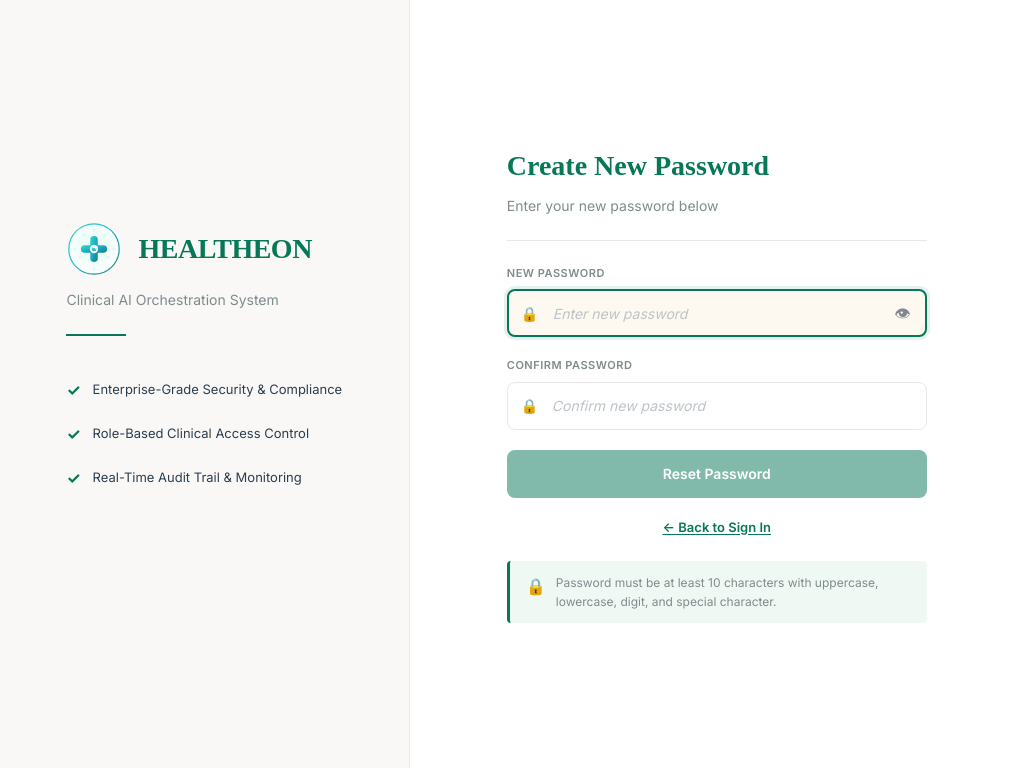
Test: ResetPasswordPage › shows error on API failure
Type "NewSecure123!" into the password field with placeholder "Enter new password" at {"x": 717, "y": 313}, box top-left (507, 289), bottom-right (927, 337)
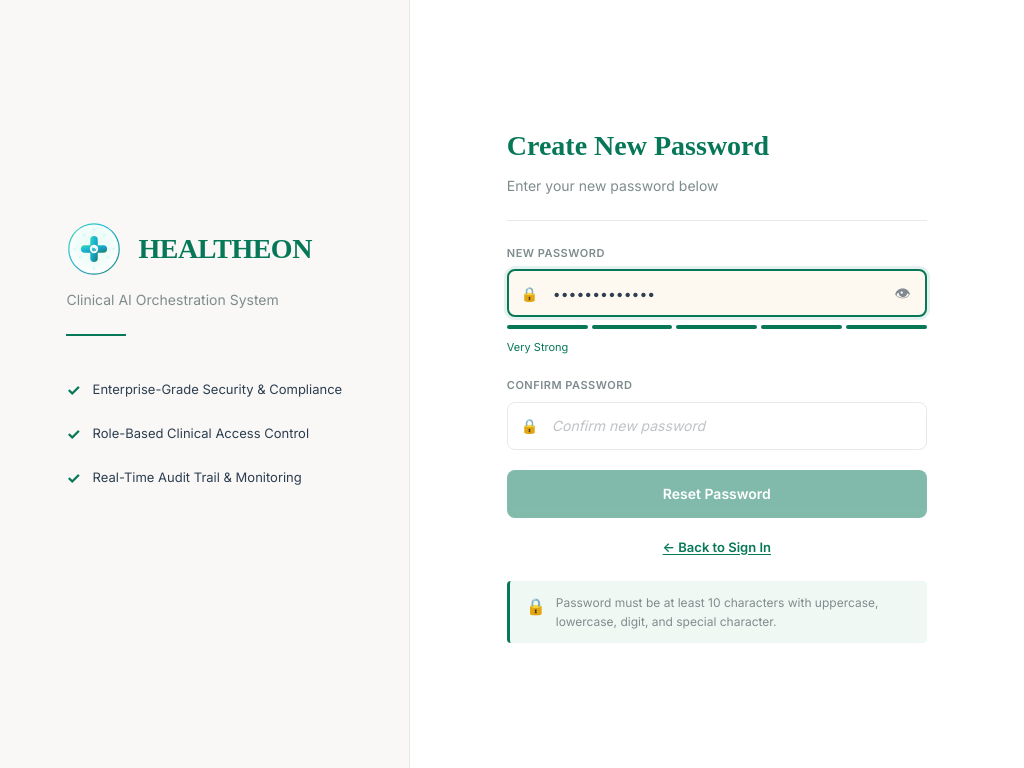
Type "NewSecure123!" into the password field with placeholder "Confirm new password" at {"x": 717, "y": 426}, box top-left (507, 402), bottom-right (927, 450)
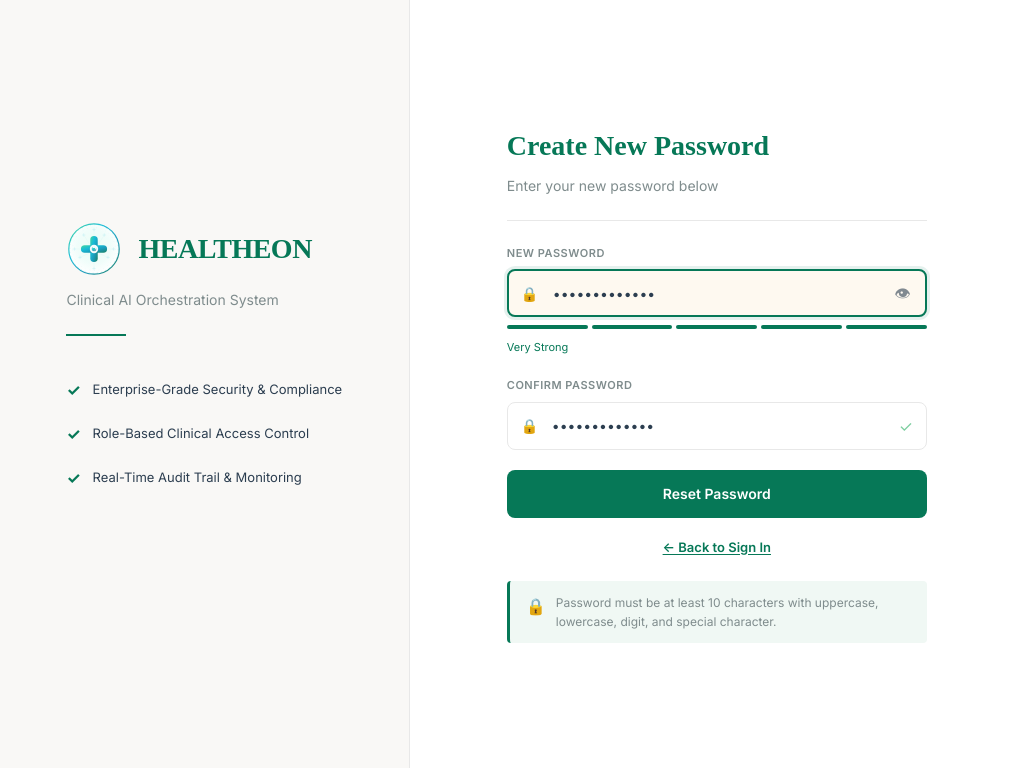
Click the button "Reset Password" at {"x": 717, "y": 494}, box top-left (507, 470), bottom-right (927, 518)
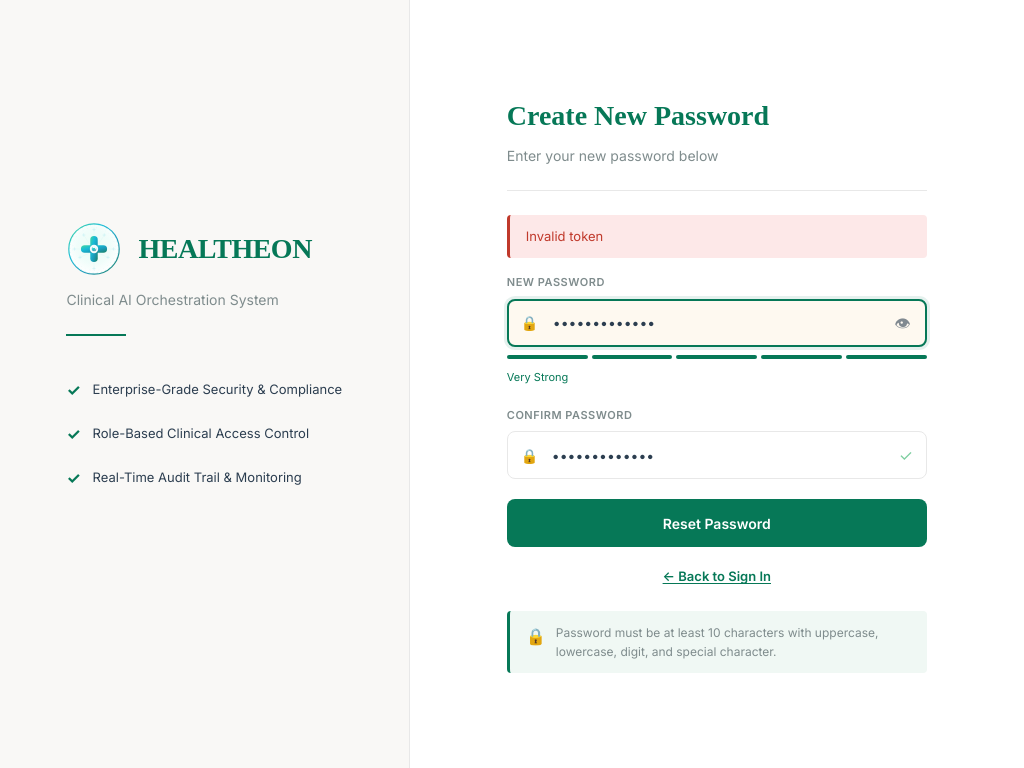
Expected: the text "Invalid token" is shown, top-left (507, 215), bottom-right (927, 258)
